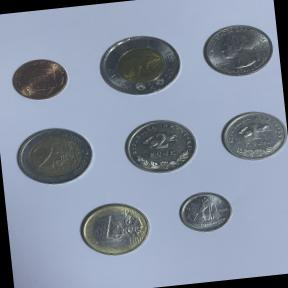1 Euro: (74, 198, 154, 262)
2 Euro: (9, 120, 100, 194)
Canda-10cent-: (173, 187, 238, 237)
Canda-2Dollar-: (92, 28, 190, 104)
Croatia-2Kune-: (118, 112, 205, 180)
US-1cent-: (7, 53, 74, 106)
US-25cent-: (197, 20, 278, 83)
